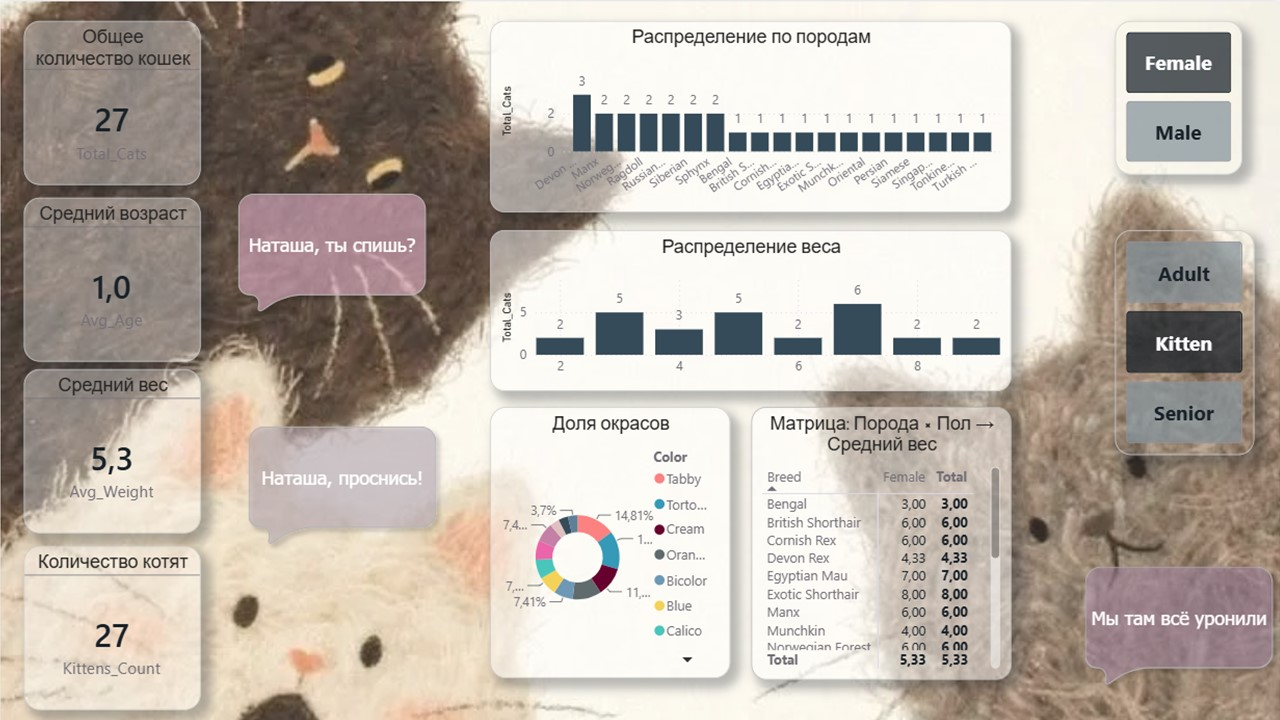

What the dashboard file says about the page in this screenshot:
{"tool":"powerbi","page":{"name":"Page 1","canvas":[1280,720],"ordinal":0},"visuals":[{"type":"shape","title":"Наташа, проснись!","box":[239,415.6,205.8,140.4],"z":0},{"type":"shape","title":"Наташа, проснись!","box":[1075.3,555.8,205.8,140.4],"z":1000},{"type":"shape","title":"Наташа, проснись!","box":[228.6,183.1,205.8,140.4],"z":2000},{"type":"advancedSlicerVisual","fields":{"Values":["cats_dataset.Gender"]},"box":[1114.3,19.5,127.3,153.2],"z":3000},{"type":"advancedSlicerVisual","fields":{"Values":["cats_dataset.Age_Group"]},"box":[1114.3,228.6,139,224.7],"z":4000},{"type":"cardVisual","title":"Общее количество кошек","fields":{"Data":["_Measures.Total_Cats"]},"box":[23.4,19.5,176.6,163.6],"z":5000},{"type":"cardVisual","title":"Средний возраст","fields":{"Data":["_Measures.Avg_Age"]},"box":[23.4,196.1,176.6,163.6],"z":6000},{"type":"cardVisual","title":"Средний вес","fields":{"Data":["_Measures.Avg_Weight"]},"box":[23.4,367.5,176.6,163.6],"z":7000},{"type":"cardVisual","title":"Количество котят","fields":{"Data":["_Measures.Kittens_Count"]},"box":[23.4,544.2,176.6,163.6],"z":8000},{"type":"columnChart","title":"Распределение по породам","fields":{"Category":["cats_dataset.Breed"],"Y":["_Measures.Total_Cats"]},"box":[489.6,19.5,520.8,190.9],"z":9000},{"type":"columnChart","title":"Распределение веса","fields":{"Category":["cats_dataset.Weight_kg"],"Y":["_Measures.Total_Cats"]},"box":[489.6,228.6,520.8,161],"z":10000},{"type":"donutChart","title":"Доля окрасов","fields":{"Category":["cats_dataset.Color"],"Y":["_Measures.Total_Cats"]},"box":[489.6,405.2,240.3,271.4],"z":11000},{"type":"pivotTable","title":"Матрица: Порода × Пол → Средний вес","fields":{"Rows":["cats_dataset.Breed"],"Columns":["cats_dataset.Gender"],"Values":["Avg(cats_dataset.Weight_kg)"]},"box":[750.6,405.2,259.7,272.7],"z":12000}]}

Visuals, with their boxes in screenshot pixels (x1, y1, x2, y2), scaled from the page's 1280x720 canvas onto the 1280x720 screenshot:
"Наташа, проснись!" shape: region(239, 416, 445, 556)
"Наташа, проснись!" shape: region(1075, 556, 1279, 696)
"Наташа, проснись!" shape: region(229, 183, 434, 324)
advancedSlicerVisual - cats_dataset.Gender: region(1114, 20, 1242, 173)
advancedSlicerVisual - cats_dataset.Age_Group: region(1114, 229, 1253, 453)
"Общее количество кошек" cardVisual: region(23, 20, 200, 183)
"Средний возраст" cardVisual: region(23, 196, 200, 360)
"Средний вес" cardVisual: region(23, 368, 200, 531)
"Количество котят" cardVisual: region(23, 544, 200, 708)
"Распределение по породам" columnChart: region(490, 20, 1010, 210)
"Распределение веса" columnChart: region(490, 229, 1010, 390)
"Доля окрасов" donutChart: region(490, 405, 730, 677)
"Матрица: Порода × Пол → Средний вес" pivotTable: region(751, 405, 1010, 678)
